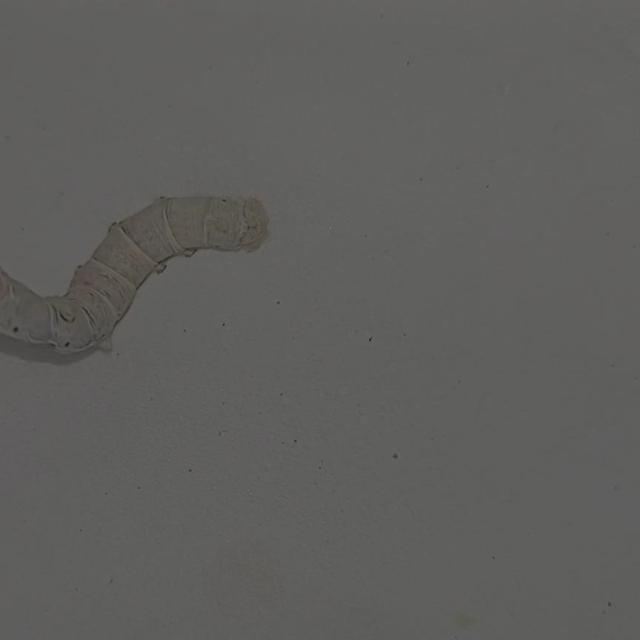Healthy: (0, 162, 294, 410)
